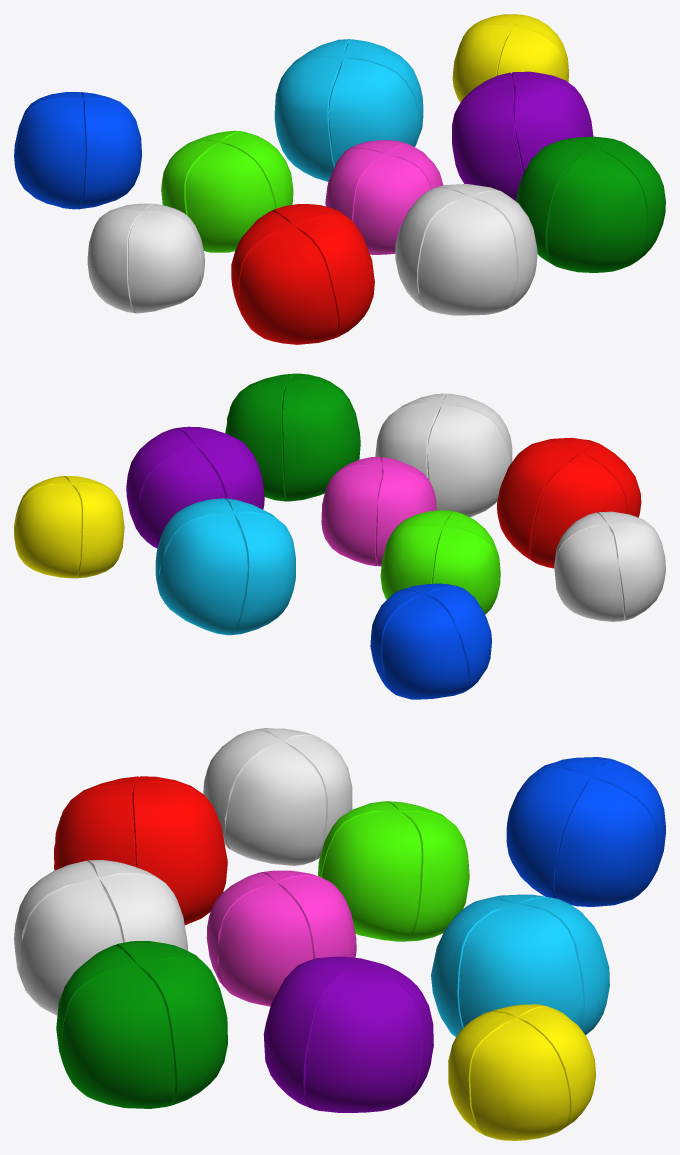
Rendered from balles_jonglage.fbx.
3 renders of one model, top to bottom at view 1: azimuth 30°, elevation 25°; view 2: azimuth 150°, elevation 25°; view 3: azimuth 270°, elevation 25°, orthographic. The views are drawn at different scales.
Visible parts, largest first — view 1: Balle.004, Balle.009, Balle.006, Balle.008, Balle.002, Balle.010, Balle.005, Balle.001, Balle.007, Balle.011; view 2: Balle.008, Balle.009, Balle.004, Balle.002, Balle.006, Balle.010, Balle.001, Balle.011, Balle.007, Balle.005; view 3: Balle.009, Balle.010, Balle.002, Balle.008, Balle.005, Balle.011, Balle.001, Balle.004, Balle.006, Balle.007.
Part boxes in pixels (x1,y1,x2,y2): Balle.004: (231, 204, 374, 344); Balle.009: (516, 136, 665, 272); Balle.006: (395, 184, 537, 315); Balle.008: (274, 39, 423, 181); Balle.002: (14, 92, 142, 209); Balle.010: (452, 71, 593, 201); Balle.005: (161, 130, 293, 252); Balle.001: (87, 203, 204, 313); Balle.007: (325, 140, 443, 254); Balle.011: (452, 14, 568, 102); Balle.008: (155, 498, 295, 635); Balle.009: (225, 373, 360, 501); Balle.004: (497, 437, 641, 568); Balle.002: (370, 583, 491, 699); Balle.006: (375, 393, 512, 517); Balle.010: (126, 426, 264, 548); Balle.001: (554, 511, 665, 621); Balle.011: (14, 476, 124, 578); Balle.007: (321, 457, 436, 566); Balle.005: (380, 510, 500, 614); Balle.009: (56, 941, 227, 1108); Balle.010: (263, 956, 433, 1112); Balle.002: (506, 757, 665, 906); Balle.008: (431, 894, 609, 1036); Balle.005: (318, 801, 469, 941); Balle.011: (448, 1004, 595, 1140); Balle.001: (203, 728, 352, 865); Balle.004: (54, 776, 227, 925); Balle.006: (14, 860, 187, 1015); Balle.007: (206, 870, 356, 1006).
Size of the model in its own units: 235 by 46.23 by 192.
